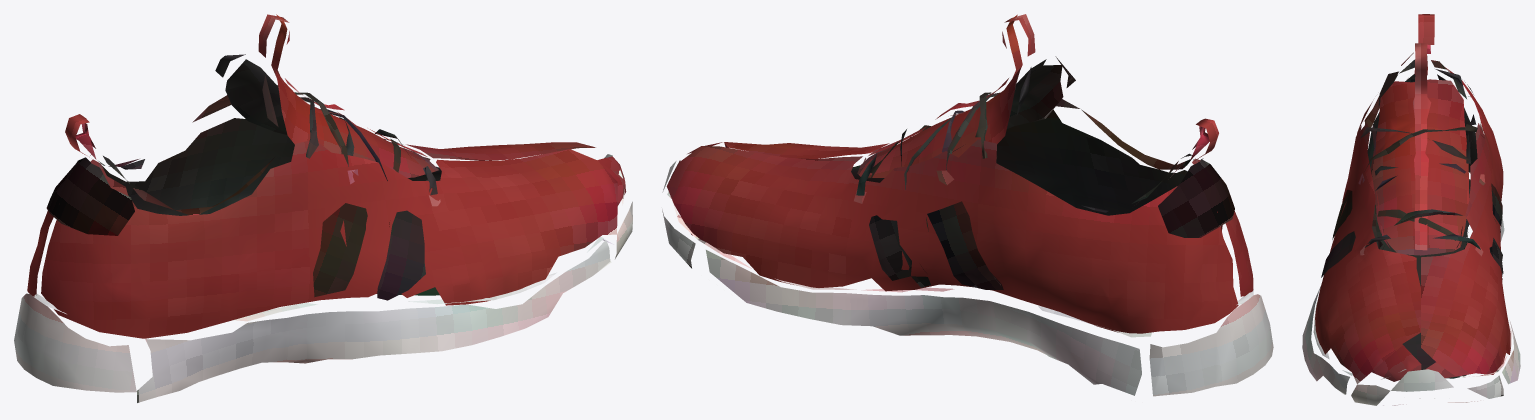
The model's file is shoe-ember-far.glb.
The picture shows the model from 3 angles, left to right: view 1: azimuth 30°, elevation 25°; view 2: azimuth 150°, elevation 25°; view 3: azimuth 270°, elevation 25°; orthographic projection. The views are drawn at different scales.
Visible parts, largest first — view 1: Shoe; view 2: Shoe; view 3: Shoe.
Boxes of the visible parts, bbox=[...] form: Shoe: bbox=[14, 14, 632, 402]; Shoe: bbox=[662, 14, 1273, 396]; Shoe: bbox=[1302, 14, 1520, 405].
Bounding box in the file's own units: 0.2957 × 0.1512 × 0.1145.
1 material, 1 textured.
